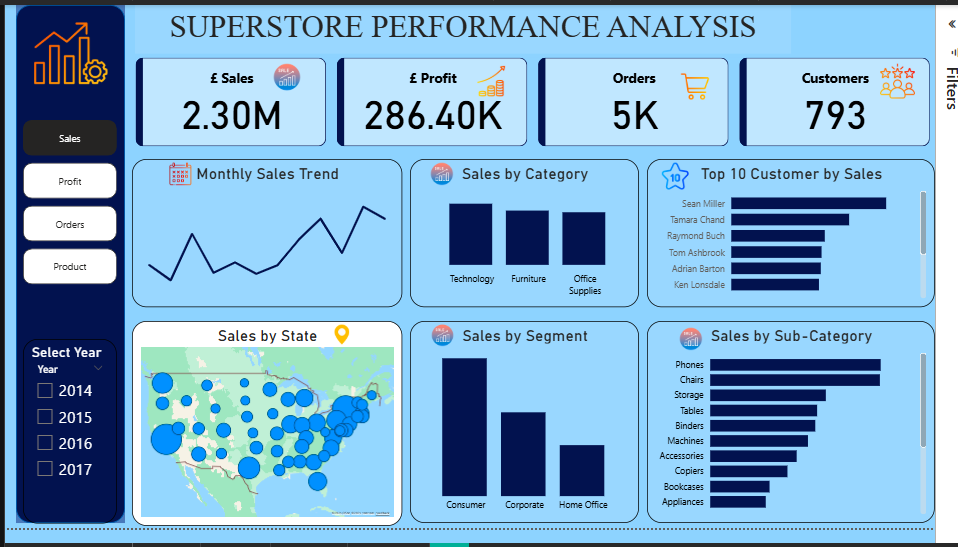

The page's visual inventory and layout, read from the dashboard file:
{"tool":"powerbi","page":{"name":"Sales","canvas":[1280,720],"ordinal":0},"visuals":[{"type":"clusteredColumnChart","title":"Sales by Category","fields":{"Category":["Sheet1.Category"],"Y":["Sheet1.Sales"]},"box":[557.4,212,315.2,203.7],"z":0},{"type":"lineChart","title":"Monthly Sales Trend","fields":{"Category":["Sheet1.Order Date.Variation.Date Hierarchy.Month"],"Y":["Sheet1.Sales"]},"box":[174.8,212,371.6,203.7],"z":1000},{"type":"clusteredColumnChart","title":"Sales by Segment","fields":{"Y":["Sheet1.Sales"],"Category":["Sheet1.Segment"]},"box":[557.4,434.9,315.2,278],"z":2000},{"type":"azureMap","title":"Sales by State","fields":{"Values":["Sheet1.Sales","Sheet1.State"],"Category":["Sheet1.State"],"Size":["Sheet1.Total Sales"]},"box":[174.8,434.9,371.6,282.1],"z":3000},{"type":"clusteredBarChart","title":"Sales by Sub-Category","fields":{"Category":["Sheet1.Sub-Category"],"Y":["Sheet1.Total Sales"]},"box":[883.6,434.9,396.4,278],"z":4000},{"type":"clusteredBarChart","title":"Top 10 Customer by Sales","fields":{"Category":["Sheet1.Customer Name"],"Y":["Sheet1.Sales"]},"box":[883.6,212,396.4,203.7],"z":5000},{"type":"shape","box":[15.1,0,150,713],"z":6000},{"type":"pageNavigator","box":[24.8,158.3,129.4,229.8],"z":7000},{"type":"textbox","box":[178.9,0,902.9,67.4],"z":8000},{"type":"slicer","title":"Select Year","fields":{"Values":["Sheet1.Order Date.Variation.Date Hierarchy.Year"]},"box":[25.2,460.3,129.3,253.7],"z":10000},{"type":"cardVisual","fields":{"Data":["Sheet1.£ Sales","Sheet1.£ Profit","Sheet1.Orders","Sheet1.Customers"]},"box":[174.8,67.4,1105.2,132.1],"z":10001},{"type":"image","box":[622.1,75.7,93.6,57.8],"z":10002},{"type":"image","box":[911.1,75.7,77.1,73],"z":10003},{"type":"image","box":[1186.4,75.7,84,57.8],"z":10004},{"type":"image","box":[360.6,75.7,55,46.8],"z":10005},{"type":"image","box":[15.1,11,150,111.5],"z":10006},{"type":"image","box":[896,212,53.7,46.8],"z":10007},{"type":"image","box":[432.2,434.9,63.3,37.2],"z":10008},{"type":"image","box":[218.8,212,44,41.3],"z":10009},{"type":"image","box":[580.8,212,41.3,41.3],"z":10010},{"type":"image","box":[582.2,433.6,39.9,41.3],"z":10011},{"type":"image","box":[923.5,439.1,41.3,41.3],"z":10012}]}

Visuals, with their boxes on the page's 1280x720 design canvas (x1, y1, x2, y2). These are canvas units, not pixel positions in the 958x547 screenshot, which may show the page scaled, cropped or inside an application window:
"Sales by Category" clusteredColumnChart: (left=557, top=212, right=873, bottom=416)
"Monthly Sales Trend" lineChart: (left=175, top=212, right=546, bottom=416)
"Sales by Segment" clusteredColumnChart: (left=557, top=435, right=873, bottom=713)
"Sales by State" azureMap: (left=175, top=435, right=546, bottom=717)
"Sales by Sub-Category" clusteredBarChart: (left=884, top=435, right=1280, bottom=713)
"Top 10 Customer by Sales" clusteredBarChart: (left=884, top=212, right=1280, bottom=416)
shape: (left=15, top=0, right=165, bottom=713)
pageNavigator: (left=25, top=158, right=154, bottom=388)
textbox: (left=179, top=0, right=1082, bottom=67)
"Select Year" slicer: (left=25, top=460, right=154, bottom=714)
cardVisual - Sheet1.£ Sales x Sheet1.£ Profit: (left=175, top=67, right=1280, bottom=200)
image: (left=622, top=76, right=716, bottom=134)
image: (left=911, top=76, right=988, bottom=149)
image: (left=1186, top=76, right=1270, bottom=134)
image: (left=361, top=76, right=416, bottom=122)
image: (left=15, top=11, right=165, bottom=122)
image: (left=896, top=212, right=950, bottom=259)
image: (left=432, top=435, right=496, bottom=472)
image: (left=219, top=212, right=263, bottom=253)
image: (left=581, top=212, right=622, bottom=253)
image: (left=582, top=434, right=622, bottom=475)
image: (left=924, top=439, right=965, bottom=480)
